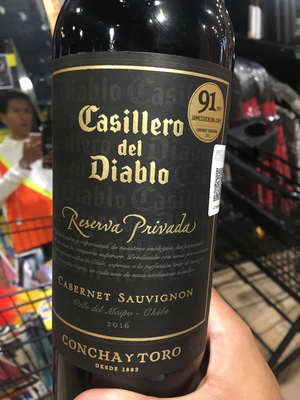casillero del diablo reserva privada cabernet sauvignon: (50, 10, 236, 400)
